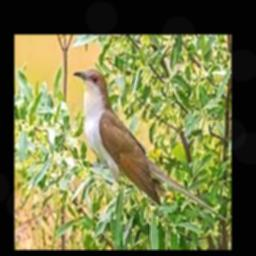Cuckoo: (72, 68, 226, 221)
